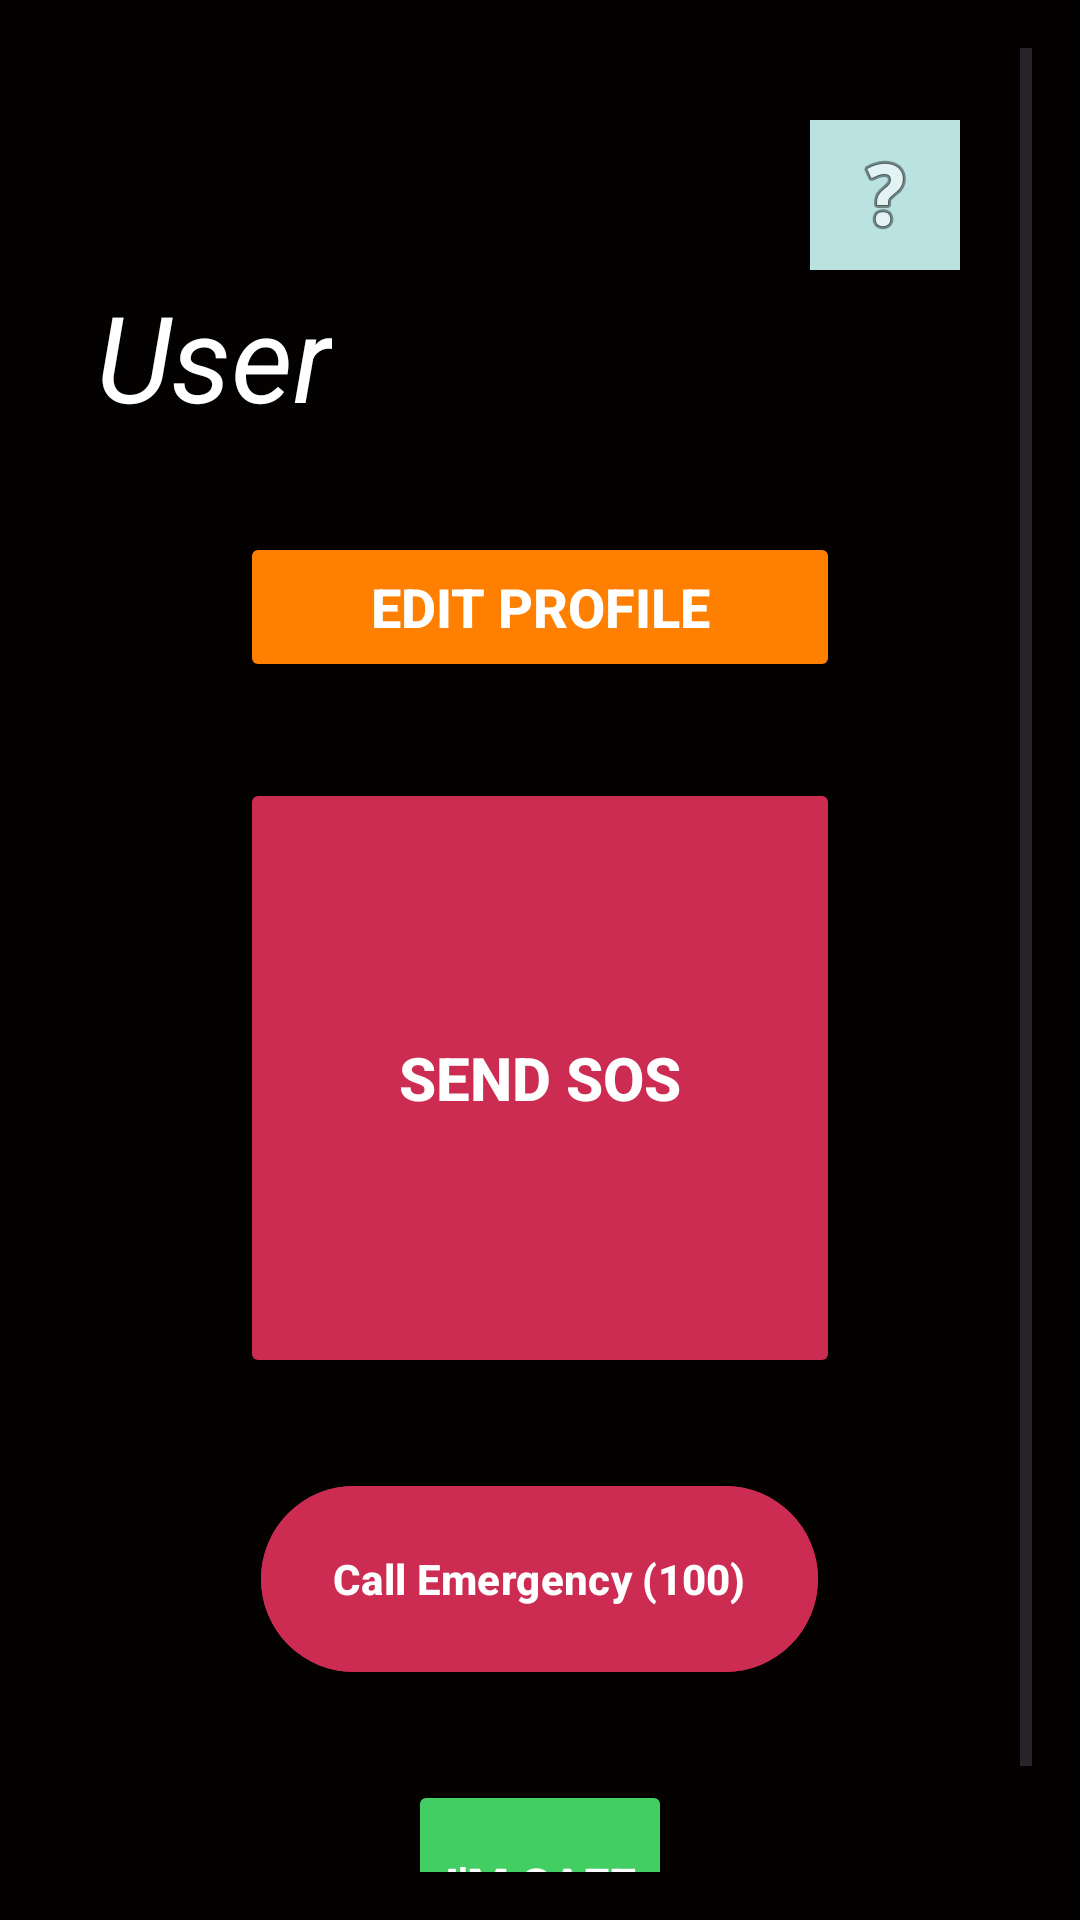

Icons on this 1080 × 1920 Android screen, each with the point to tap as point (x, y):
About: point (885, 195)
